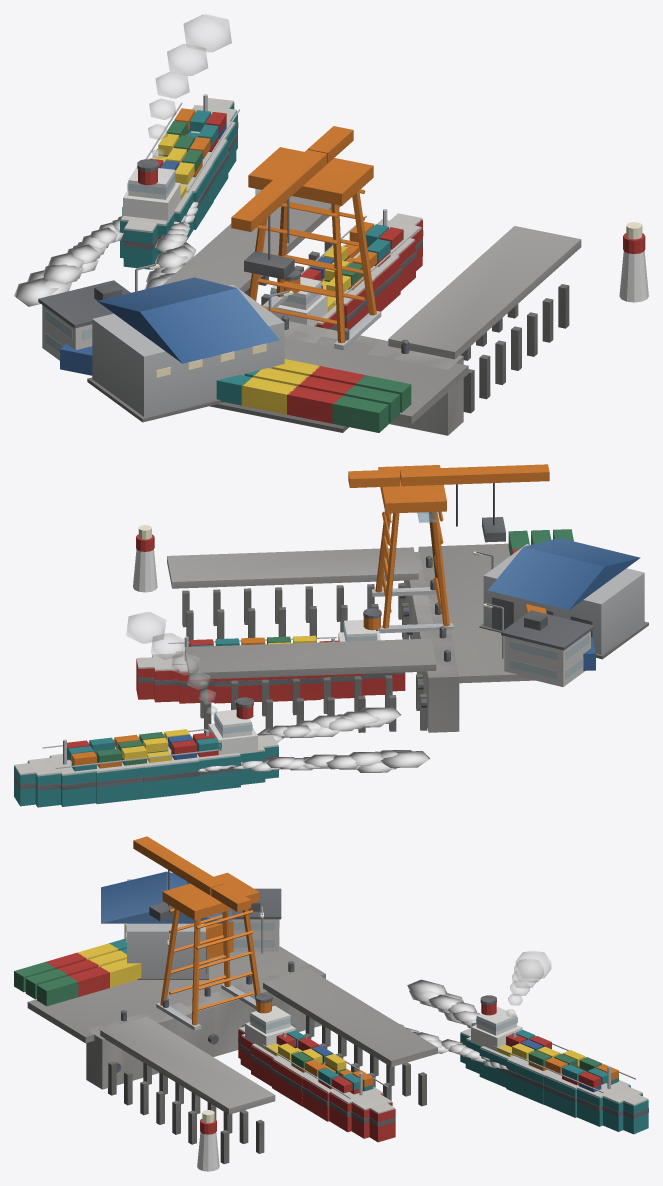
The model's file is Port_P2.fbx.
The picture shows the model from 3 angles, top to bottom: view 1: azimuth 30°, elevation 25°; view 2: azimuth 150°, elevation 25°; view 3: azimuth 270°, elevation 25°; orthographic projection. The views are drawn at different scales.
Parts seen in each view (by area): view 1: Port.Shed, Port.Pier1, Port.Crane0, Port.ShipOut, Port.Containers, Port.Ship0, Port.Apron, Port.Wake, Port.Pier0, Port.ShipSmoke, Port.QuayWall, Port.Control (+1 smaller); view 2: Port.ShipOut, Port.Shed, Port.Pier0, Port.Pier1, Port.Crane0, Port.Ship0, Port.Apron, Port.Wake, Port.Control, Port.QuayWall, Port.ShipSmoke, Port.Beacon (+1 smaller); view 3: Port.ShipOut, Port.Ship0, Port.Pier1, Port.Crane0, Port.Pier0, Port.Apron, Port.QuayWall, Port.Shed, Port.Containers, Port.Wake, Port.Control, Port.ShipSmoke (+1 smaller).
Part boxes in pixels (x1=…): Port.Shed: x1=87, y1=277, x2=284, y2=422; Port.Pier1: x1=388, y1=226, x2=581, y2=413; Port.Crane0: x1=231, y1=126, x2=381, y2=350; Port.ShipOut: x1=119, y1=94, x2=239, y2=269; Port.Containers: x1=60, y1=343, x2=411, y2=432; Port.Ship0: x1=270, y1=209, x2=423, y2=330; Port.Apron: x1=210, y1=331, x2=468, y2=432; Port.Wake: x1=14, y1=202, x2=198, y2=306; Port.Pier0: x1=163, y1=196, x2=340, y2=305; Port.ShipSmoke: x1=148, y1=14, x2=231, y2=158; Port.QuayWall: x1=284, y1=321, x2=463, y2=435; Port.Control: x1=38, y1=280, x2=130, y2=360; Port.ShipOut: x1=14, y1=697, x2=278, y2=807; Port.Shed: x1=479, y1=538, x2=648, y2=659; Port.Pier0: x1=184, y1=638, x2=436, y2=732; Port.Pier1: x1=167, y1=547, x2=418, y2=646; Port.Crane0: x1=348, y1=464, x2=549, y2=633; Port.Ship0: x1=136, y1=608, x2=405, y2=703; Port.Apron: x1=418, y1=543, x2=534, y2=683; Port.Wake: x1=198, y1=707, x2=429, y2=772; Port.Control: x1=501, y1=610, x2=594, y2=686; Port.QuayWall: x1=399, y1=551, x2=459, y2=732; Port.ShipSmoke: x1=126, y1=612, x2=217, y2=714; Port.Beacon: x1=133, y1=525, x2=157, y2=592; Port.ShipOut: x1=460, y1=995, x2=648, y2=1134; Port.Ship0: x1=238, y1=993, x2=395, y2=1142; Port.Pier1: x1=100, y1=1016, x2=275, y2=1164; Port.Crane0: x1=133, y1=836, x2=260, y2=1030; Port.Pier0: x1=263, y1=969, x2=437, y2=1106; Port.Apron: x1=27, y1=946, x2=316, y2=1043; Port.QuayWall: x1=86, y1=964, x2=325, y2=1089; Port.Shed: x1=101, y1=871, x2=231, y2=979; Port.Containers: x1=14, y1=921, x2=233, y2=1006; Port.Wake: x1=400, y1=979, x2=508, y2=1069; Port.Control: x1=232, y1=888, x2=281, y2=951; Port.ShipSmoke: x1=506, y1=951, x2=550, y2=1016.
Bounding box in the file's own units: 8894 × 3580 × 11244.
